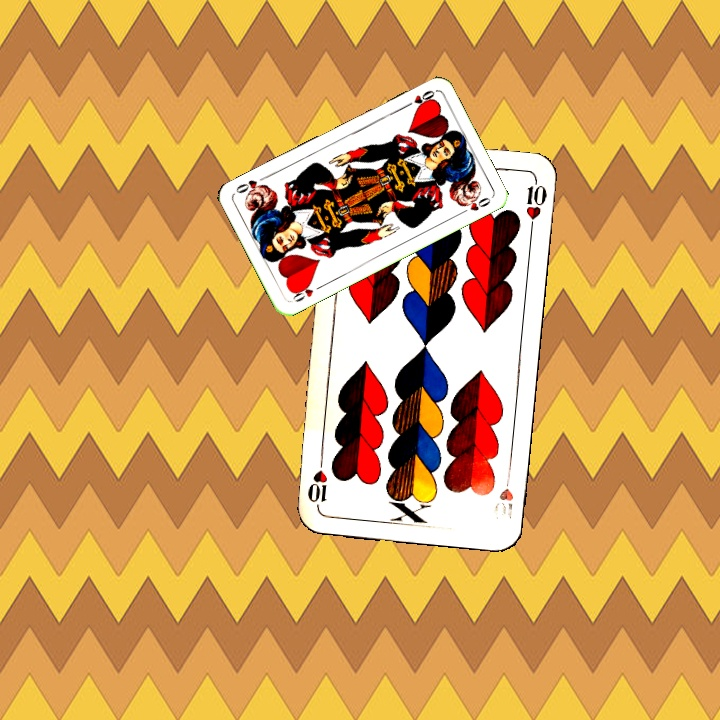H10: (489, 467, 516, 521)
HO: (288, 279, 325, 305), (400, 86, 437, 111)
